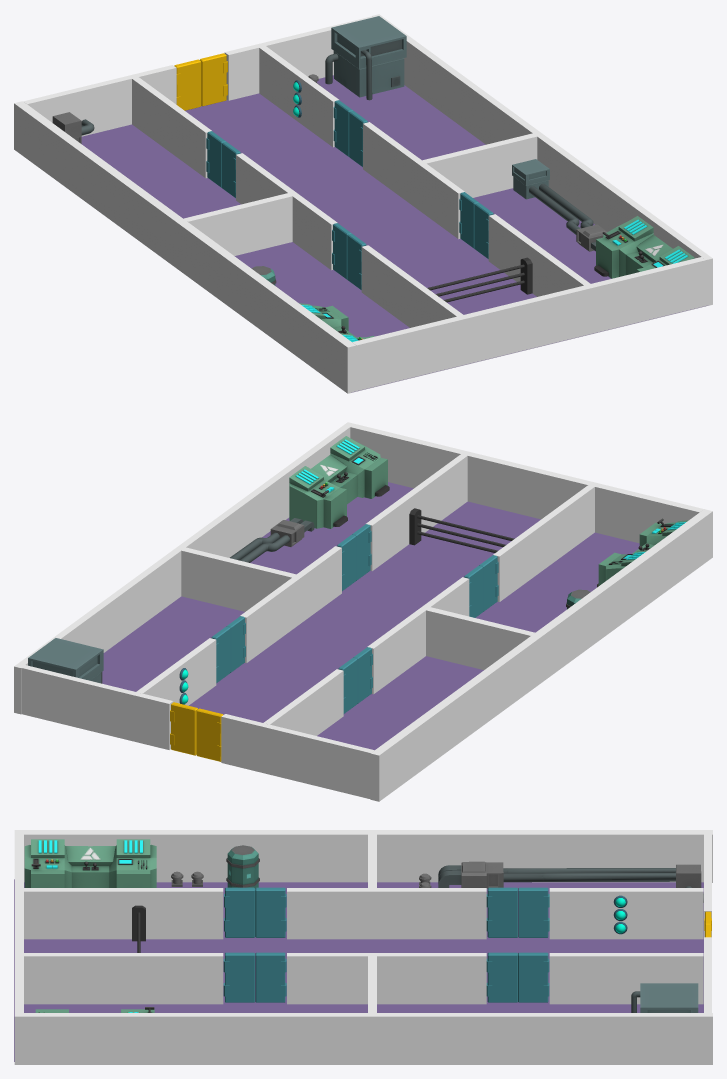
File: maps_49.fbx
3 renders of one model, top to bottom at view 1: azimuth 30°, elevation 25°; view 2: azimuth 150°, elevation 25°; view 3: azimuth 270°, elevation 25°, orthographic. The views are drawn at different scales.
Parts seen in each view (by area): view 1: wall_01_08_geo, wall_01_07_geo, wall_01_05_geo, wall_01_06_geo, generatorStation_05_geo, wall_01_11_geo6, wall_01_09_geo, wall_01_03_geo12, wall_01_11_geo7, wall_01_03_geo13, wall_01_11_geo4, wall_01_09_geo1 (+11 smaller); view 2: wall_01_08_geo, wall_01_07_geo, wall_01_05_geo, wall_01_06_geo, wall_01_09_geo, wall_01_09_geo1, table_01_geo, wall_01_11_geo7, wall_01_11_geo6, wall_01_11_geo8, wall_01_03_geo13, wall_01_03_geo12 (+10 smaller); view 3: wall_01_06_geo, wall_01_07_geo, wall_01_08_geo, wall_01_11_geo8, wall_01_11_geo5, wall_01_11_geo6, wall_01_11_geo7, wall_01_11_geo4, wall_01_11_geo2, polySurface177 (×4), polySurface174 (×4), table_01_geo1 (+9 smaller).
Boxes of the visible parts, left/top/right/bottom form: wall_01_08_geo: left=81, top=75, right=708, bottom=392; wall_01_07_geo: left=14, top=101, right=356, bottom=393; wall_01_05_geo: left=352, top=257, right=705, bottom=391; wall_01_06_geo: left=372, top=14, right=712, bottom=306; generatorStation_05_geo: left=325, top=16, right=406, bottom=100; wall_01_11_geo6: left=363, top=122, right=464, bottom=239; wall_01_09_geo: left=23, top=65, right=176, bottom=136; wall_01_03_geo12: left=183, top=193, right=292, bottom=255; wall_01_11_geo7: left=361, top=245, right=463, bottom=327; wall_01_03_geo13: left=422, top=133, right=537, bottom=197; wall_01_11_geo4: left=132, top=77, right=211, bottom=178; wall_01_09_geo1: left=224, top=16, right=373, bottom=100; wall_01_08_geo: left=102, top=482, right=639, bottom=750; wall_01_07_geo: left=370, top=509, right=712, bottom=801; wall_01_05_geo: left=350, top=424, right=703, bottom=543; wall_01_06_geo: left=14, top=422, right=354, bottom=714; wall_01_09_geo: left=221, top=714, right=374, bottom=798; wall_01_09_geo1: left=21, top=665, right=173, bottom=749; table_01_geo: left=289, top=436, right=389, bottom=528; wall_01_11_geo7: left=493, top=485, right=594, bottom=601; wall_01_11_geo6: left=240, top=546, right=341, bottom=663; wall_01_11_geo8: left=366, top=454, right=467, bottom=571; wall_01_03_geo13: left=181, top=547, right=296, bottom=611; wall_01_03_geo12: left=426, top=607, right=534, bottom=669; wall_01_06_geo: left=14, top=1013, right=712, bottom=1064; wall_01_07_geo: left=14, top=830, right=712, bottom=882; wall_01_08_geo: left=14, top=879, right=703, bottom=1061; wall_01_11_geo8: left=23, top=953, right=223, bottom=1004; wall_01_11_geo5: left=287, top=888, right=486, bottom=939; wall_01_11_geo6: left=287, top=953, right=486, bottom=1004; wall_01_11_geo7: left=24, top=888, right=223, bottom=939; wall_01_11_geo4: left=549, top=888, right=703, bottom=939; wall_01_11_geo2: left=549, top=953, right=703, bottom=1004; polySurface177 (×4): left=255, top=887, right=549, bottom=1002; polySurface174 (×4): left=223, top=887, right=517, bottom=1002; table_01_geo1: left=24, top=839, right=156, bottom=887.
Bounding box in the file's own units: 73.34 × 10.22 × 116.
Materials: 7 (7 with a texture image).
